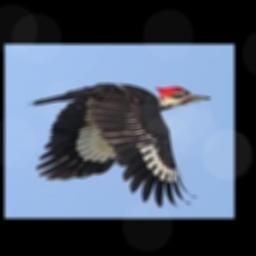Woodpecker: (25, 82, 210, 207)
